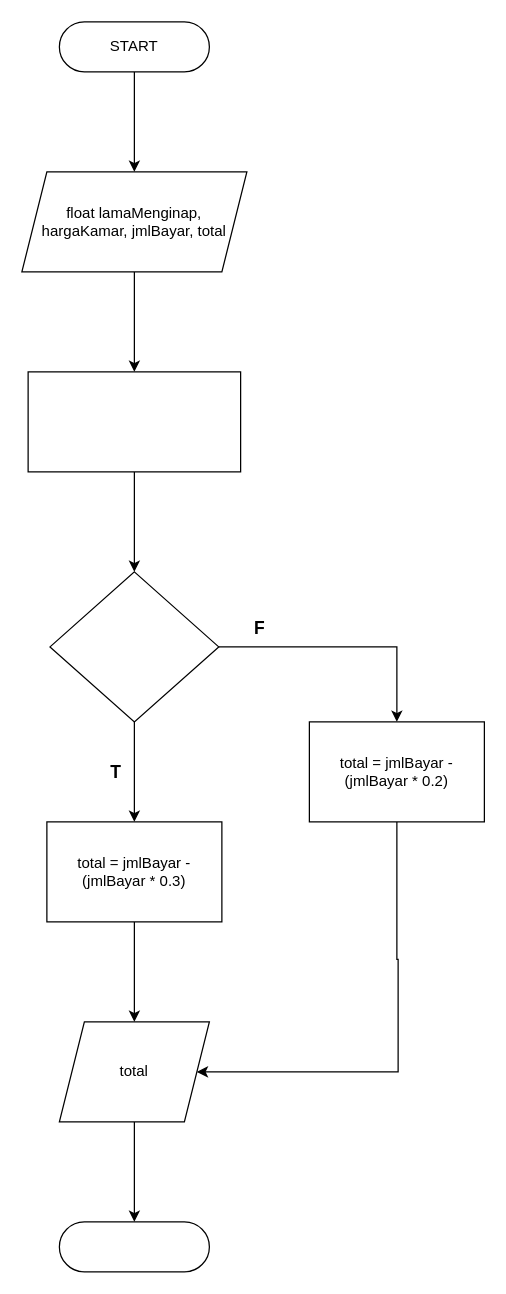
This 506x1294 diagram has some shape labels left out. The shapes that lost their labels are listed below. From the top down, each one's centre as x and y in pixels, then its label:
At [134,421]: "jmlBayar = lamaMenginap * hargaKamar".
At [134,646]: "jmlBayar > 700000".
At [133,1246]: "END".
